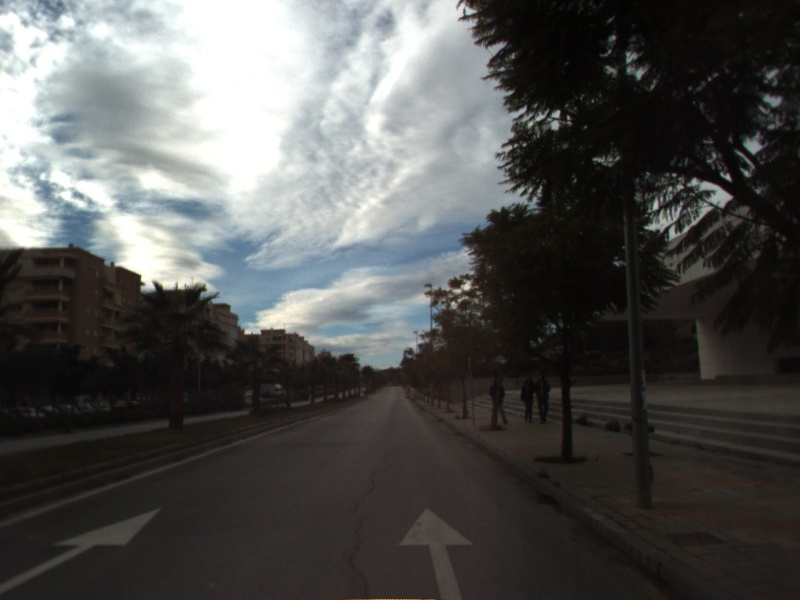STRAIGHT: (1, 505, 165, 595), (396, 505, 475, 600)
